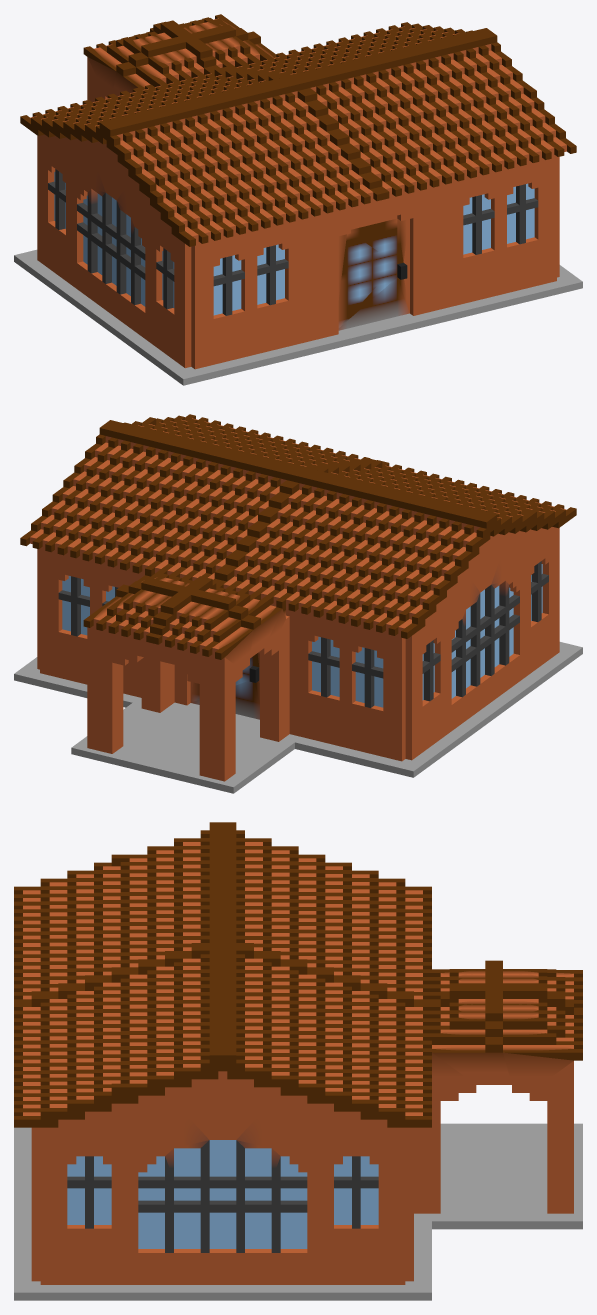
Rendered from obj_house5c.fbx.
3 views of the same model, one above another, from view 1: azimuth 30°, elevation 25°; view 2: azimuth 150°, elevation 25°; view 3: azimuth 270°, elevation 25° (orthographic). The views are drawn at different scales.
Parts seen in each view (by area): view 1: obj_house5c; view 2: obj_house5c; view 3: obj_house5c.
Boxes of the visible parts, x1,y1,x2,y2 form: obj_house5c: (14,14,582,385); obj_house5c: (14,414,582,793); obj_house5c: (14,822,582,1300).
Bounding box in the file's own units: 6.4 × 6.4 × 3.
Materials: 1 (1 with a texture image).
